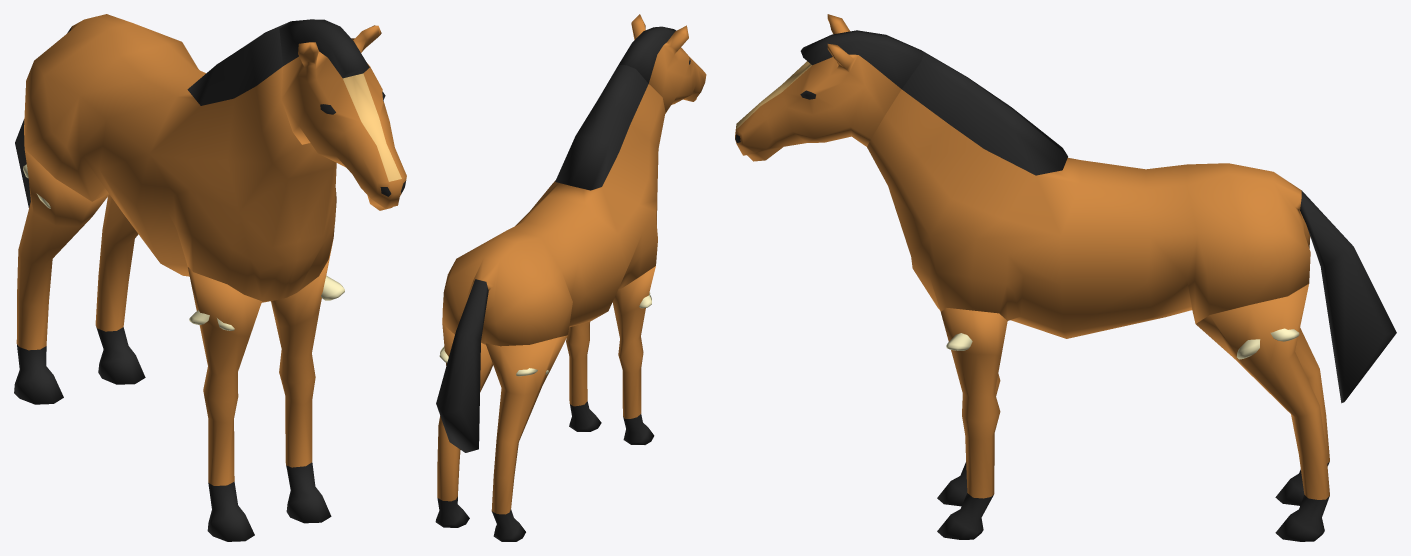
Rendered from Western_Horse_Parts.fbx.
3 renders of one model, left to right at view 1: azimuth 30°, elevation 25°; view 2: azimuth 150°, elevation 25°; view 3: azimuth 270°, elevation 25°, orthographic. The views are drawn at different scales.
Visible parts, largest first — view 1: horse.parts, horse.parts.001, horse.parts.004, horse.parts.003, horse.parts.002, horse.parts.005; view 2: horse.parts, horse.parts.004, horse.parts.001, horse.parts.003, horse.parts.005, horse.parts.002; view 3: horse.parts, horse.parts.001, horse.parts.005, horse.parts.002, horse.parts.004.
Part boxes in pixels (left/top/right/bottom): horse.parts: left=15, top=14, right=344, bottom=330; horse.parts.001: left=279, top=19, right=406, bottom=210; horse.parts.004: left=14, top=149, right=109, bottom=404; horse.parts.003: left=188, top=267, right=261, bottom=541; horse.parts.002: left=271, top=243, right=332, bottom=523; horse.parts.005: left=95, top=194, right=145, bottom=384; horse.parts: left=436, top=65, right=665, bottom=452; horse.parts.004: left=485, top=335, right=567, bottom=541; horse.parts.001: left=618, top=14, right=706, bottom=113; horse.parts.003: left=612, top=266, right=655, bottom=444; horse.parts.005: left=435, top=324, right=492, bottom=527; horse.parts.002: left=566, top=321, right=601, bottom=431; horse.parts: left=867, top=51, right=1396, bottom=403; horse.parts.001: left=735, top=14, right=923, bottom=161; horse.parts.005: left=1196, top=284, right=1329, bottom=541; horse.parts.002: left=937, top=308, right=1007, bottom=539; horse.parts.004: left=1275, top=327, right=1329, bottom=505.
Size of the model in its own units: 67.17 by 209 by 257.
Materials: 1 (1 with a texture image).
